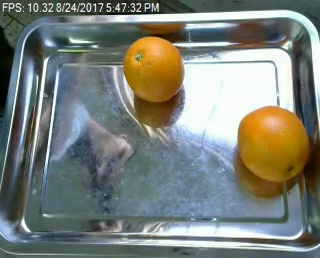Orange: (237, 105, 310, 183), (123, 36, 185, 103)
